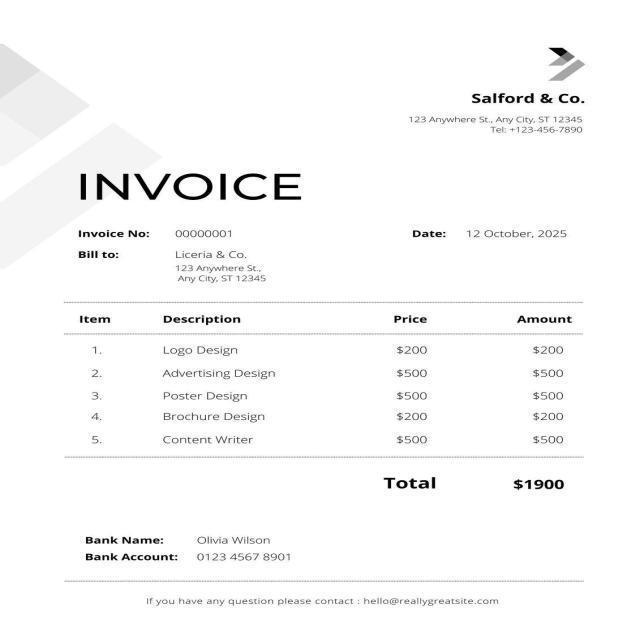ROI: (63, 299, 587, 459), (79, 167, 305, 212), (81, 533, 298, 569), (76, 250, 275, 284), (140, 595, 499, 610), (380, 472, 566, 495), (407, 113, 588, 135), (411, 223, 569, 244), (465, 86, 588, 108), (75, 227, 244, 242)
